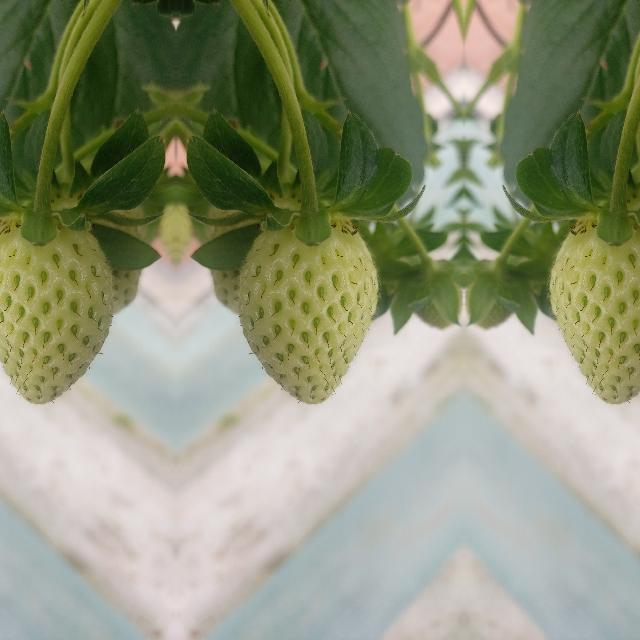Health_25: (238, 218, 376, 404), (0, 218, 112, 403), (549, 218, 640, 403)
